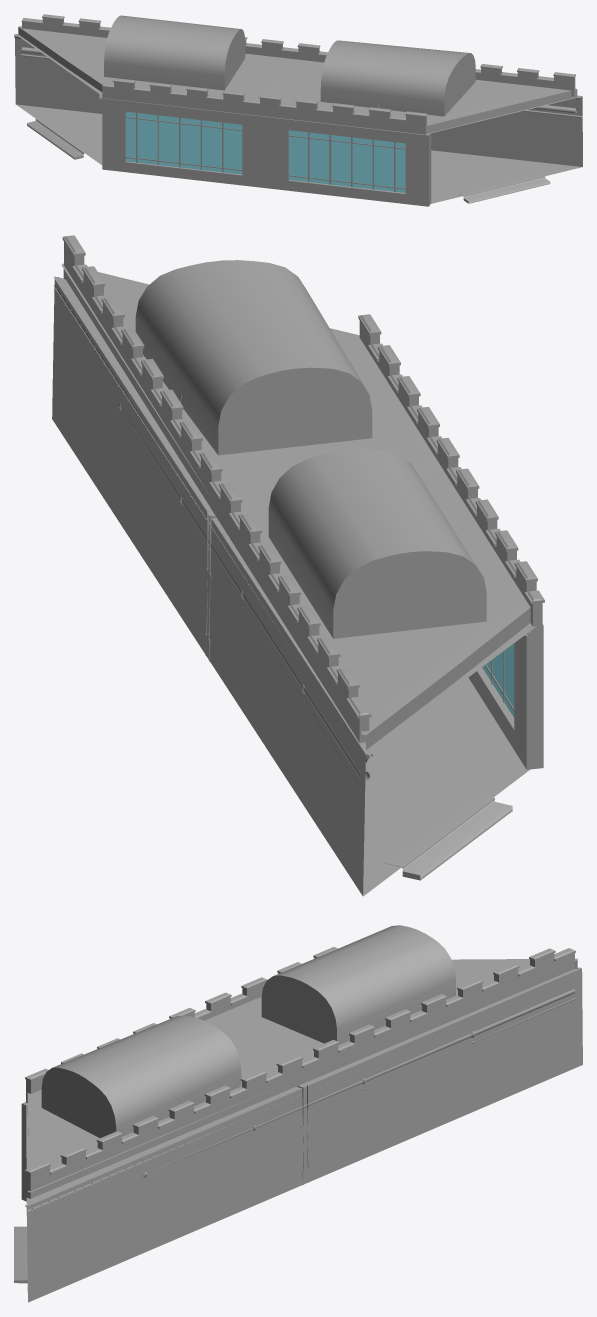
Rendered from ResearchRoom_ModularHallway_V1.fbx.
3 views of the same model, one above another, from view 1: azimuth 30°, elevation 25°; view 2: azimuth 150°, elevation 25°; view 3: azimuth 270°, elevation 25° (orthographic). The views are drawn at different scales.
Visible parts, largest first — view 1: ModularHallway; view 2: ModularHallway; view 3: ModularHallway.
Boxes of the visible parts, bbox=[...] form: ModularHallway: bbox=[14, 14, 582, 206]; ModularHallway: bbox=[52, 235, 544, 896]; ModularHallway: bbox=[14, 925, 582, 1302].
Bounding box in the file's own units: 20.91 × 6.64 × 20.66.
